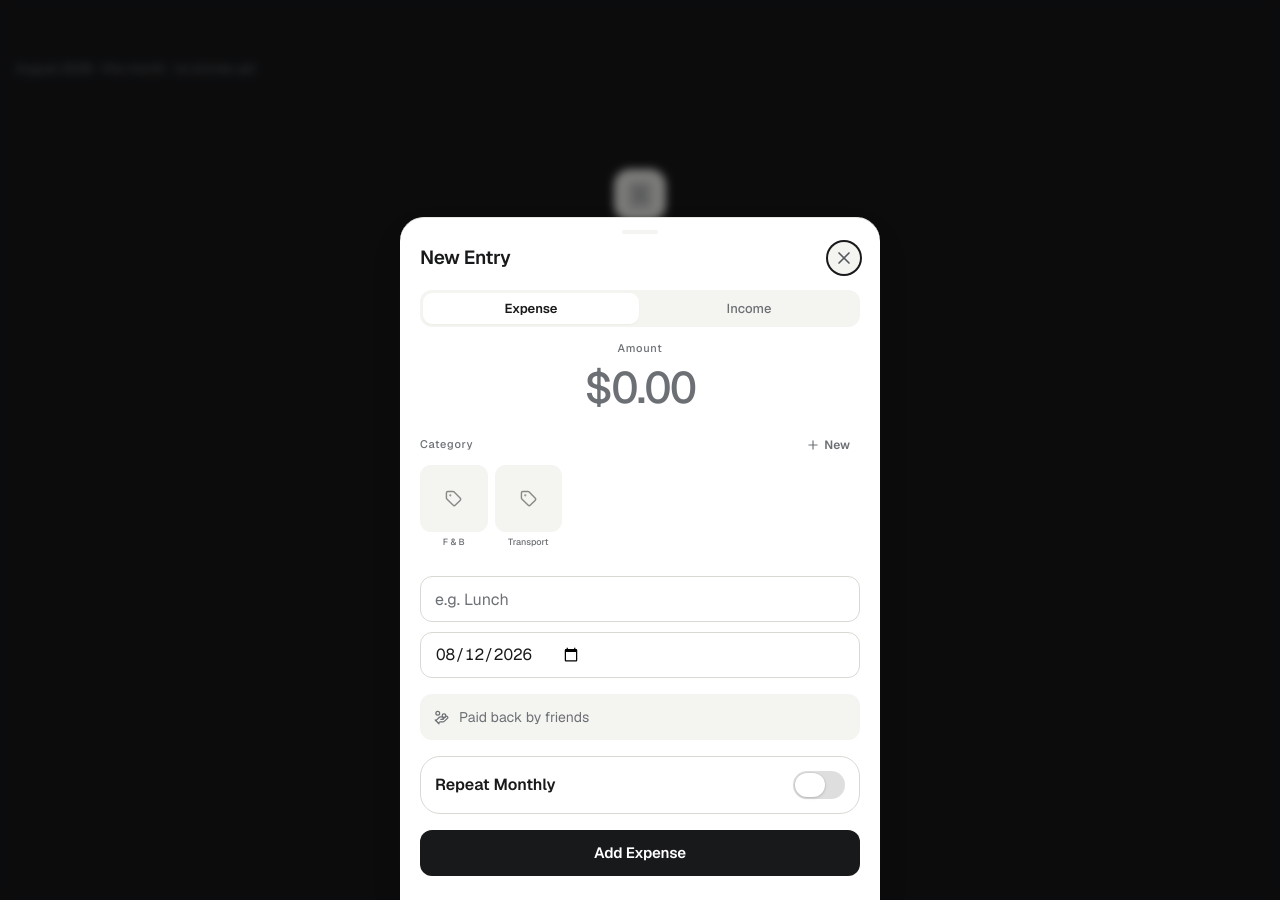
Scenario: optional description › prefers what you typed over the fallback
Click the button "F & B": (454, 512) [420,464,488,560]
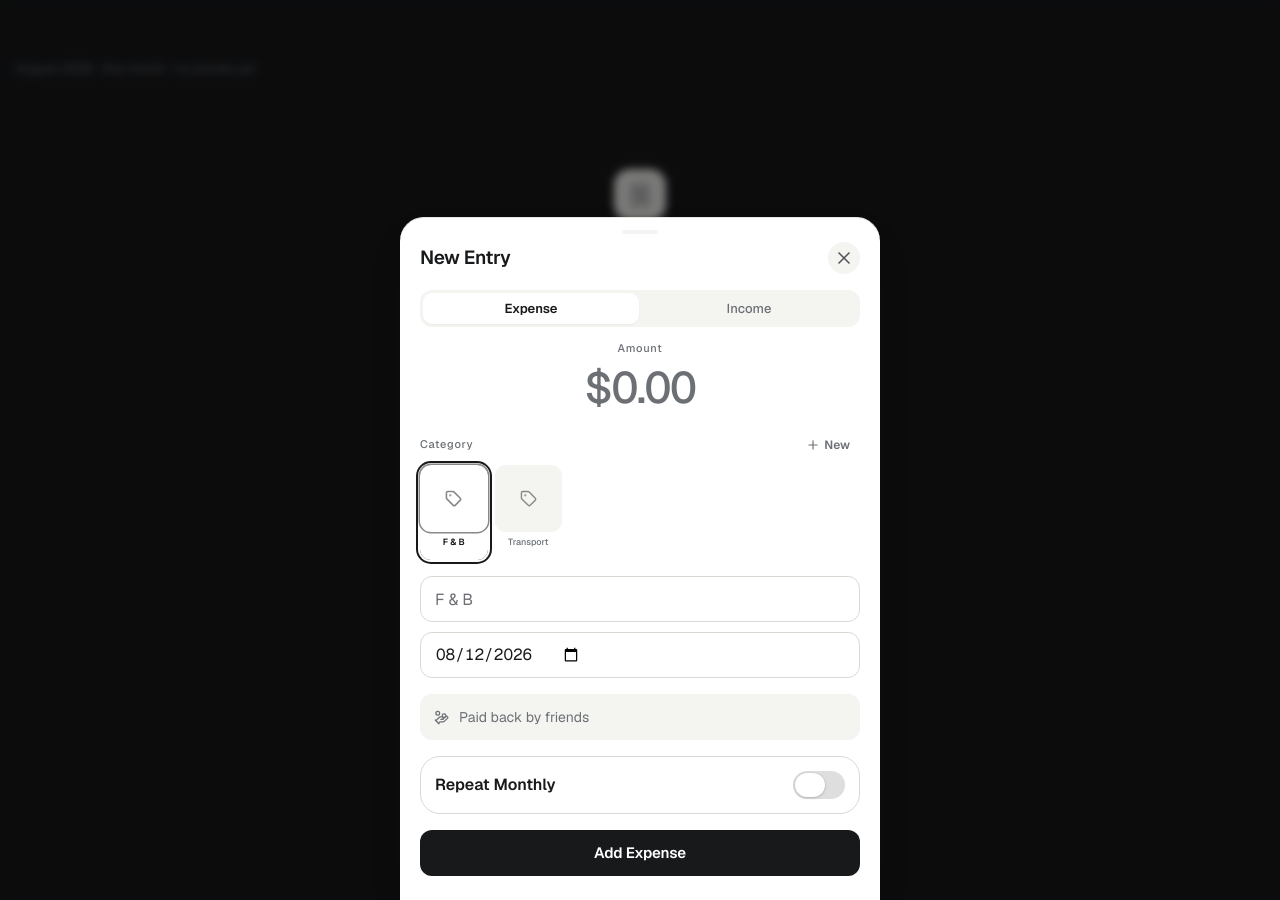
In the field named "Description": (640, 599) [420,576,860,622], type "Chicken rice"
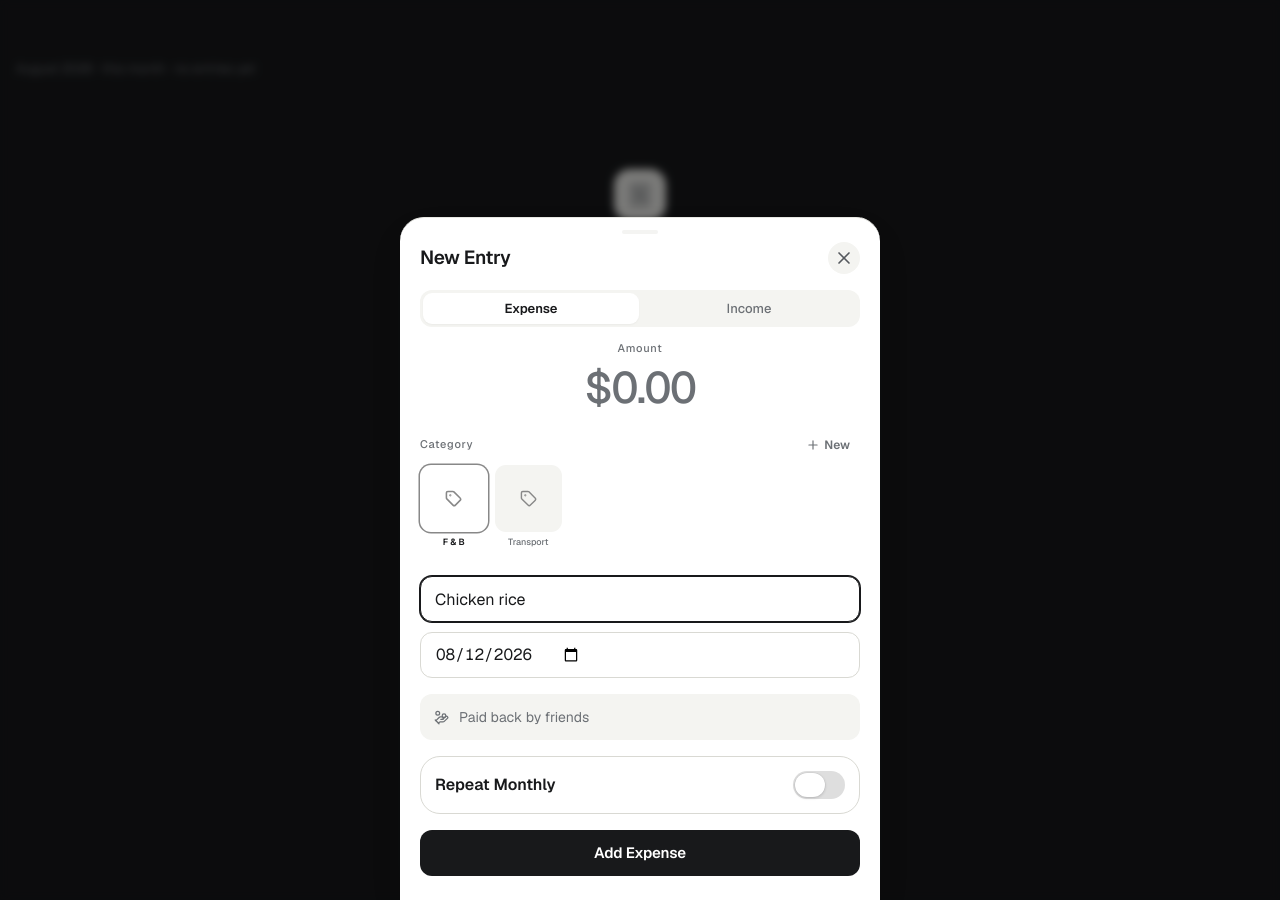
Click the button named "Amount": (640, 388) [420,360,860,416]
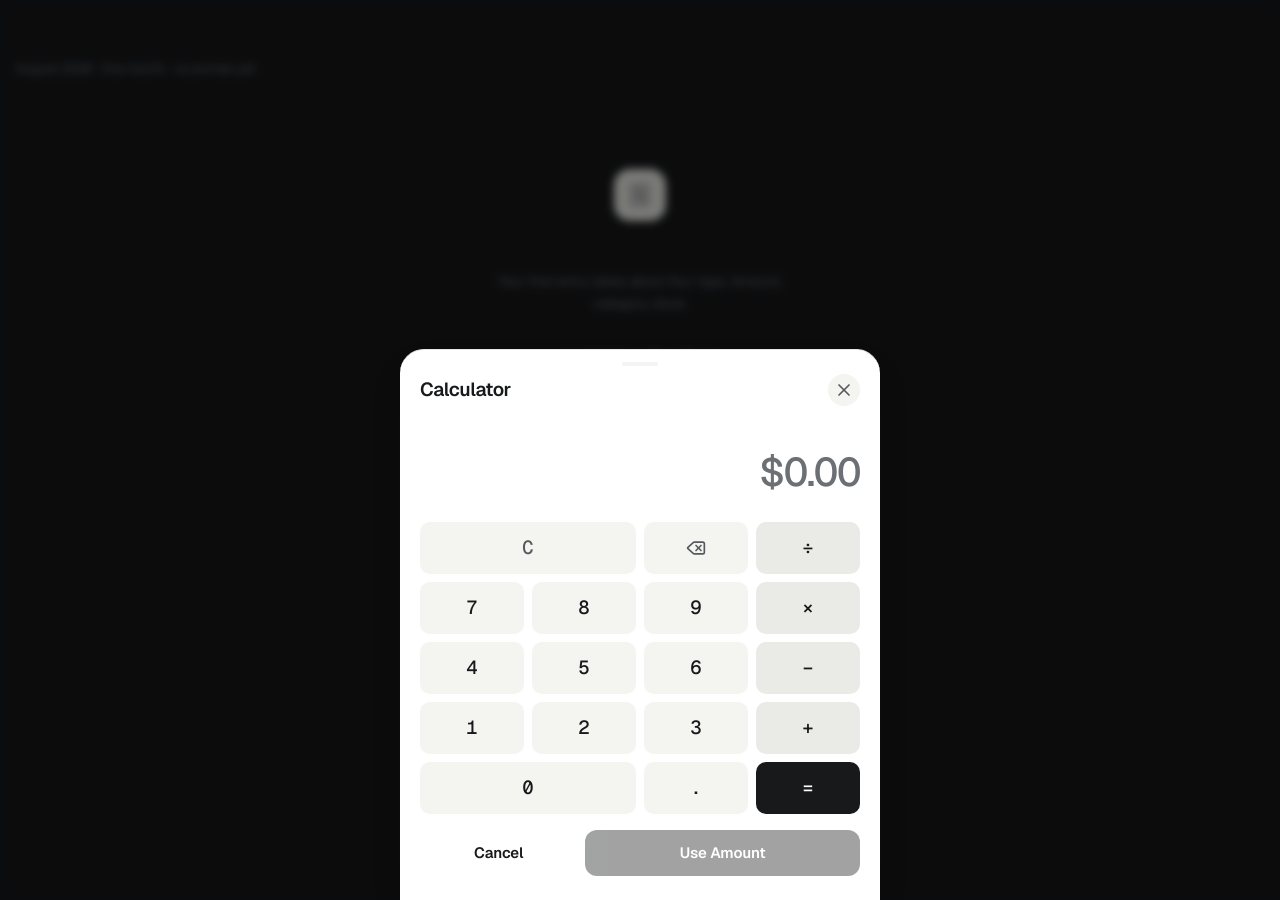
Click the button "4": (472, 668) [420,642,524,694]
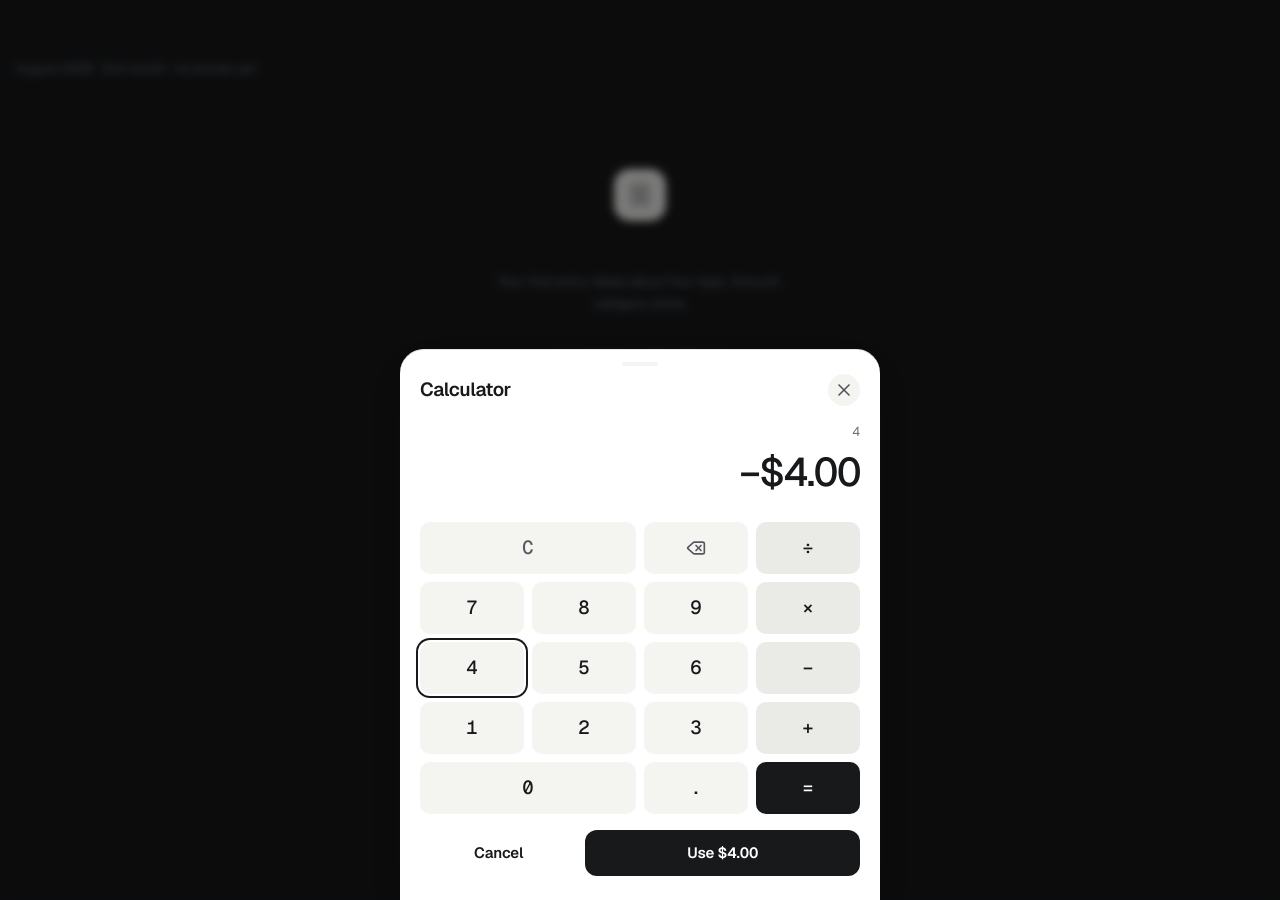
Click the button "Use $4.00": (723, 853) [585,830,860,876]
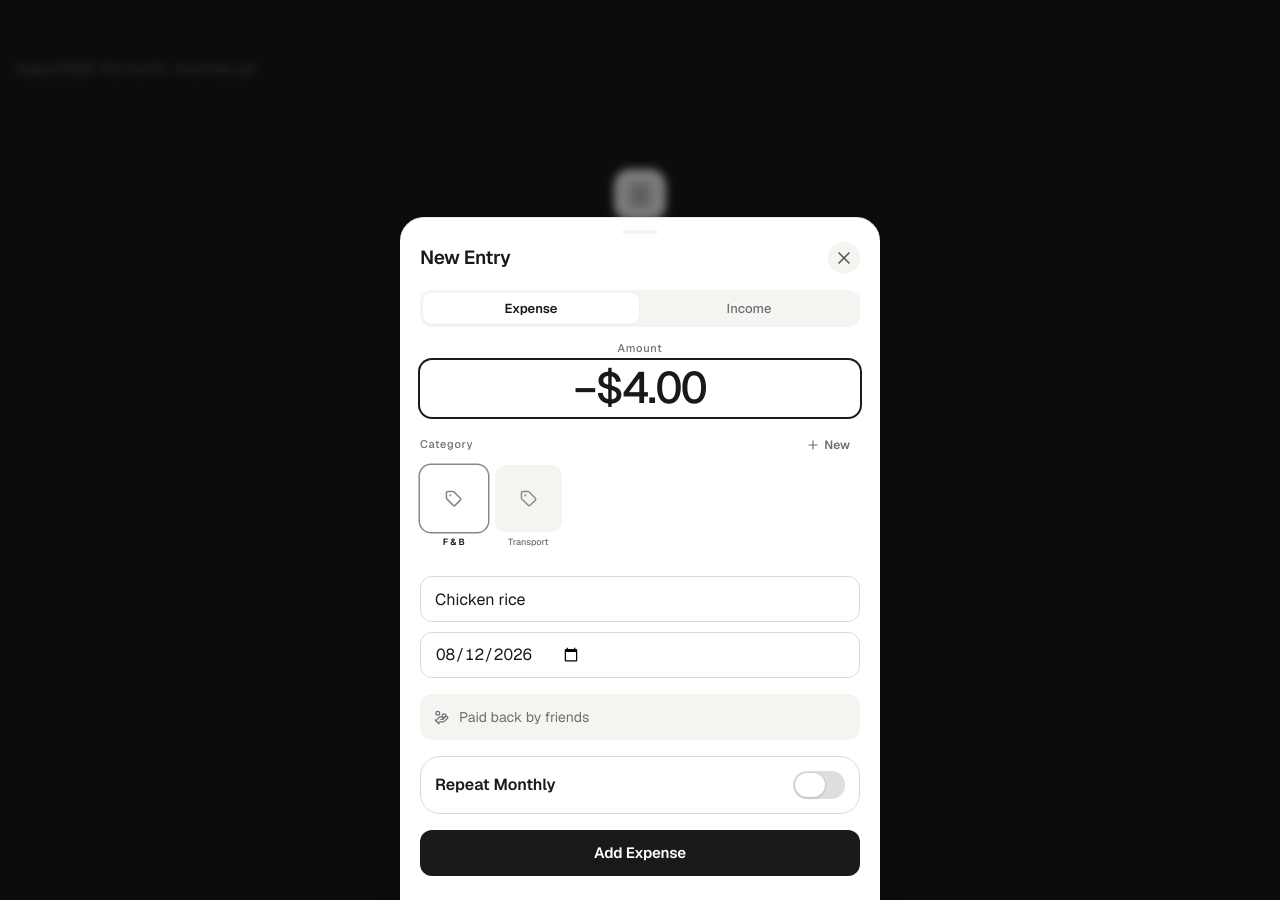
Click the button "Add Expense": (640, 853) [420,830,860,876]
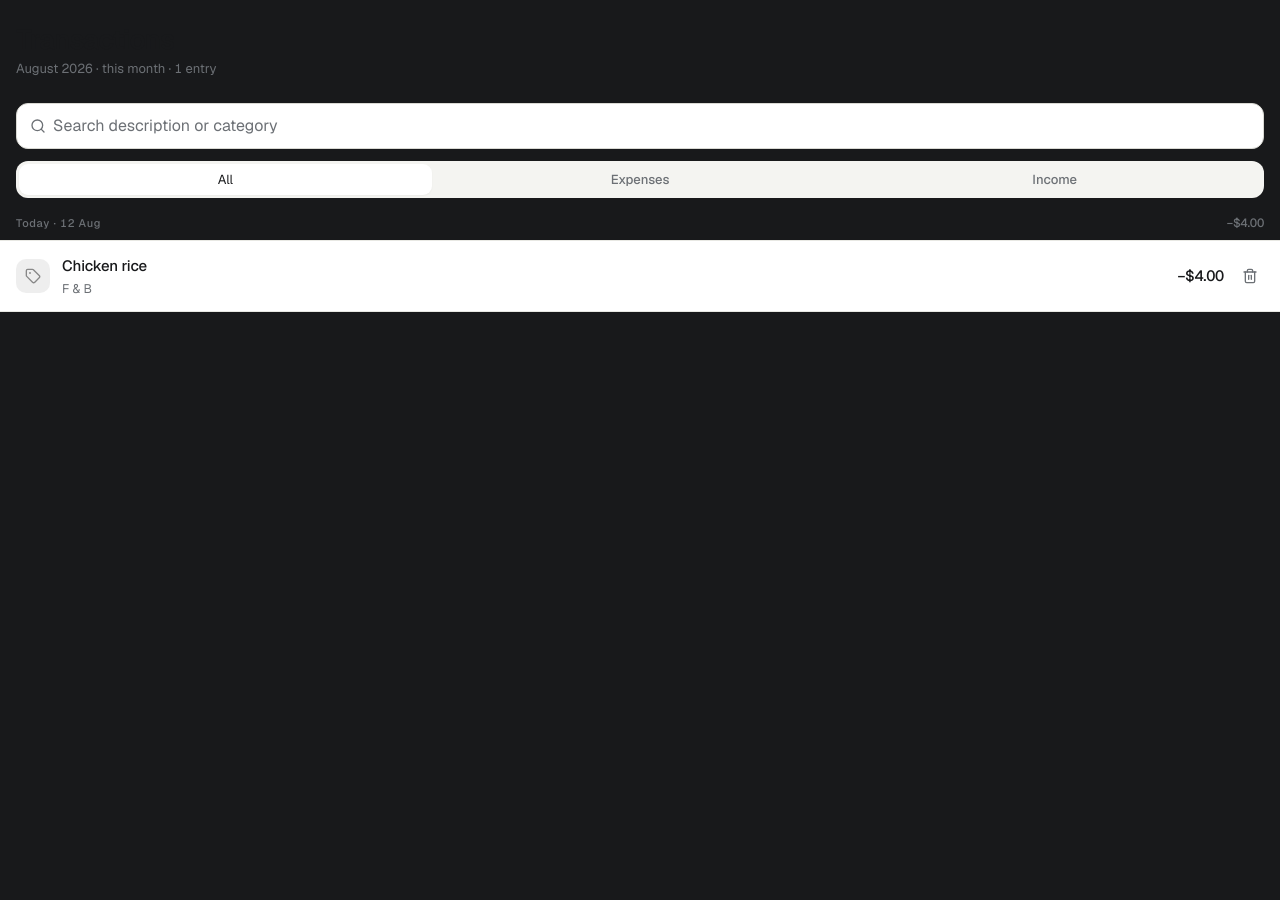
Expected: the text "Chicken rice" is shown, [62,255,147,278]
